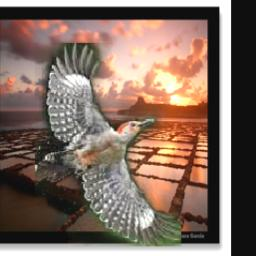Woodpecker: (36, 43, 182, 246)
